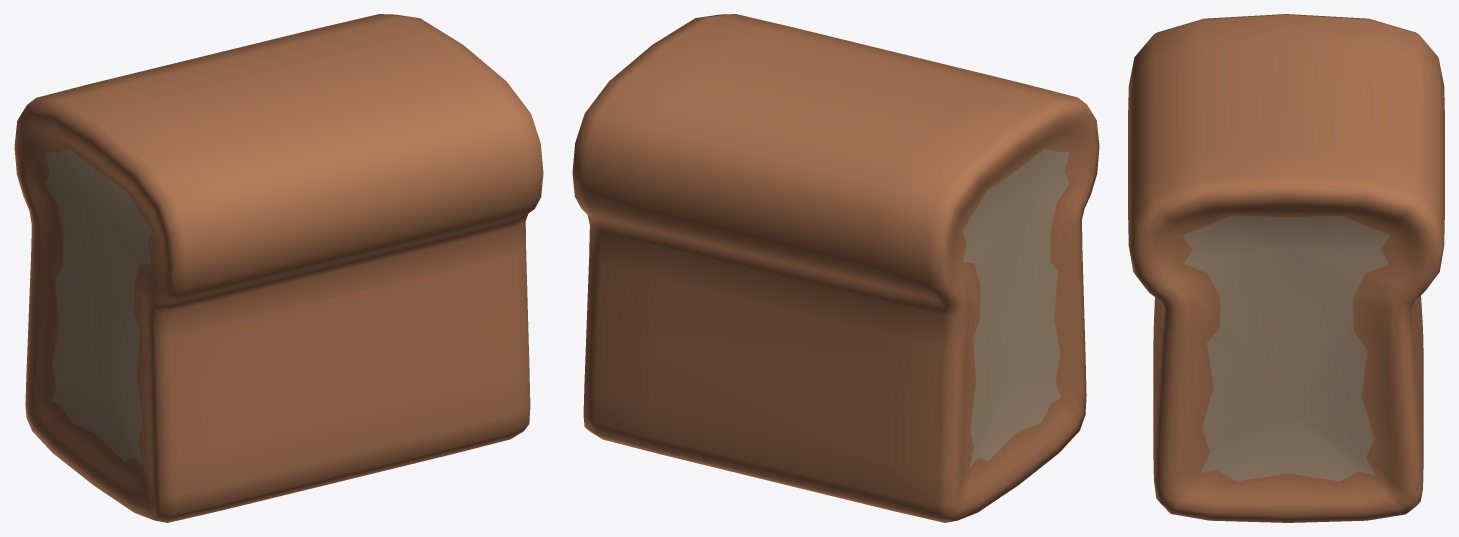
File: BRED.fbx
The picture shows the model from 3 angles, left to right: view 1: azimuth 30°, elevation 25°; view 2: azimuth 150°, elevation 25°; view 3: azimuth 270°, elevation 25°; orthographic projection. The views are drawn at different scales.
Parts seen in each view (by area): view 1: Bread; view 2: Bread; view 3: Bread.
Part boxes in pixels (bbox=[...]): Bread: bbox=[14, 14, 543, 522]; Bread: bbox=[572, 14, 1099, 522]; Bread: bbox=[1128, 14, 1444, 522].
Size of the model in its own units: 199 by 184 by 153.
